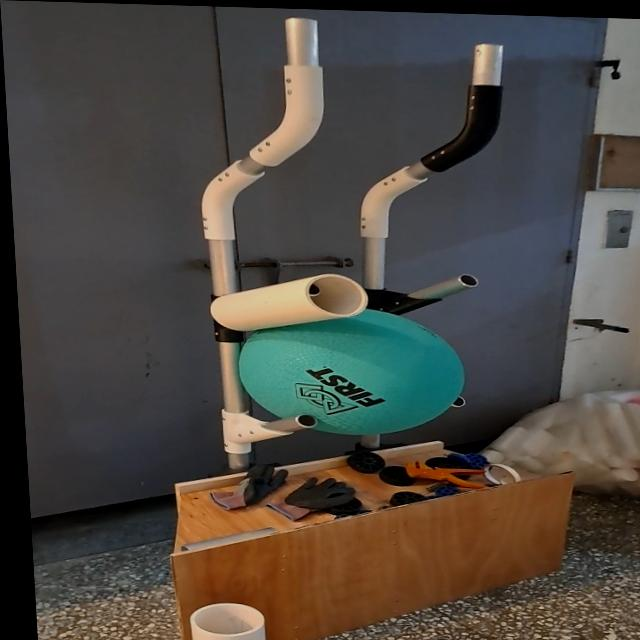ALGAE: (229, 306, 470, 441)
CORAL: (206, 270, 370, 336), (185, 599, 272, 640)
